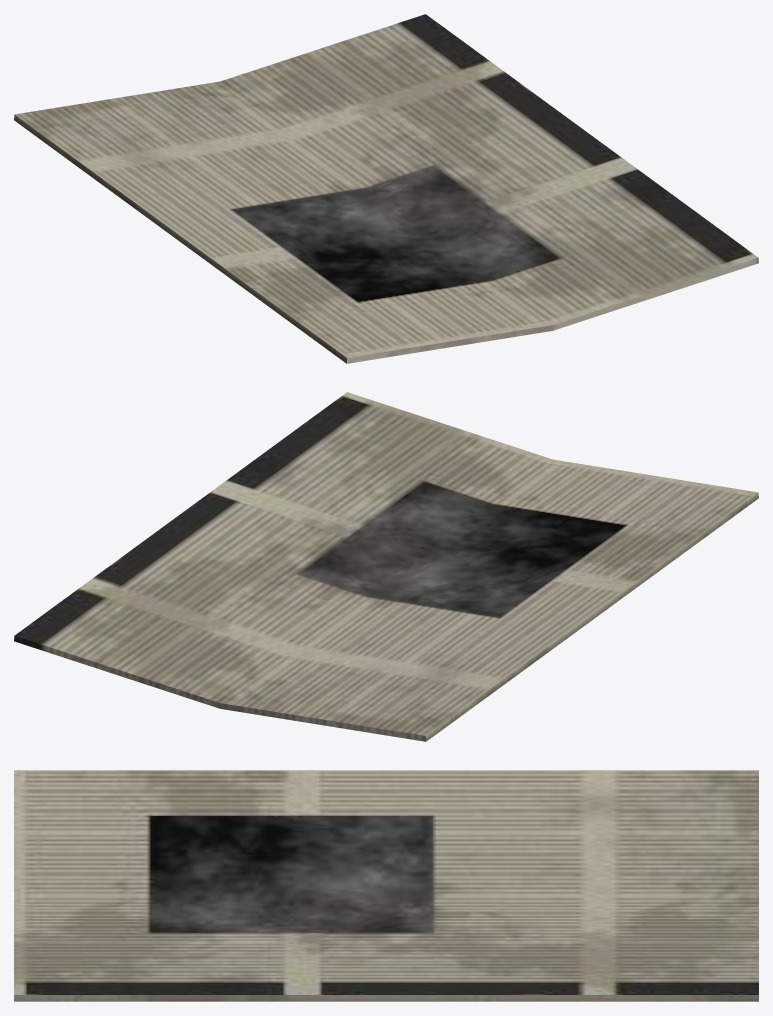
Rendered from newspaper_lod1_web.glb.
The picture shows the model from 3 angles, top to bottom: view 1: azimuth 30°, elevation 25°; view 2: azimuth 150°, elevation 25°; view 3: azimuth 270°, elevation 25°; orthographic projection. The views are drawn at different scales.
Parts seen in each view (by area): view 1: Newspaper_Body; view 2: Newspaper_Body; view 3: Newspaper_Body.
Boxes of the visible parts, x1,y1,x2,y2 form: Newspaper_Body: (14, 14, 758, 363); Newspaper_Body: (14, 392, 758, 741); Newspaper_Body: (14, 770, 758, 1001).
Bounding box in the file's own units: 0.3003 × 0.016 × 0.42.
Materials: 1 (1 with a texture image).
